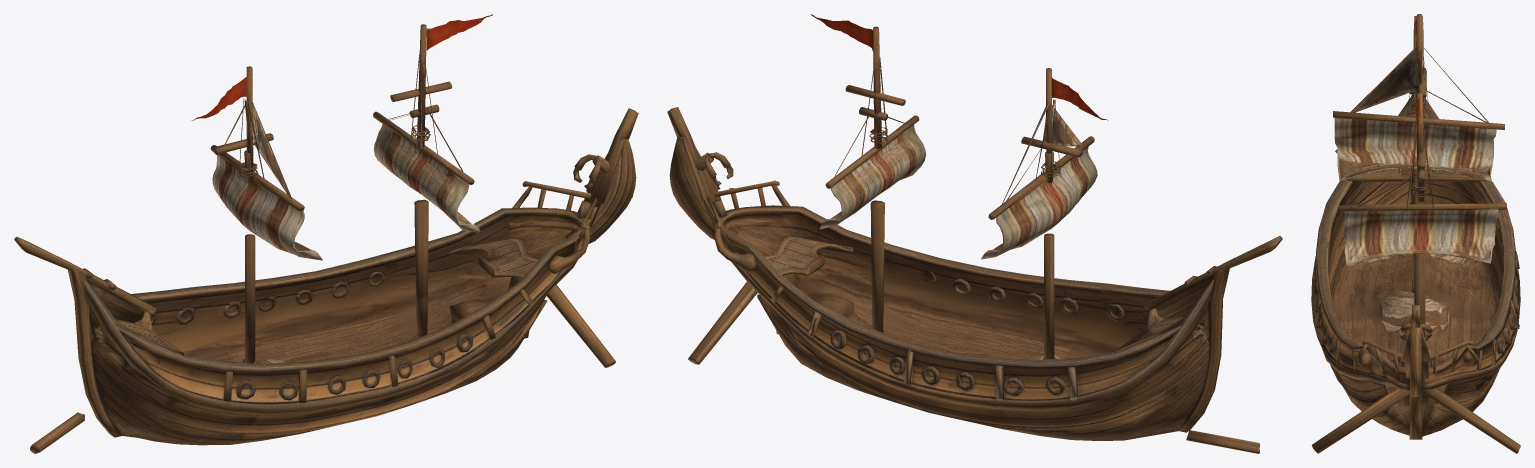
Rendered from shipwreck.glb.
3 views of the same model, side by side, from view 1: azimuth 30°, elevation 25°; view 2: azimuth 150°, elevation 25°; view 3: azimuth 270°, elevation 25° (orthographic). The views are drawn at different scales.
Size of the model in its own units: 0.9512 by 0.4917 by 0.3062.
Materials: 1 (1 with a texture image).
